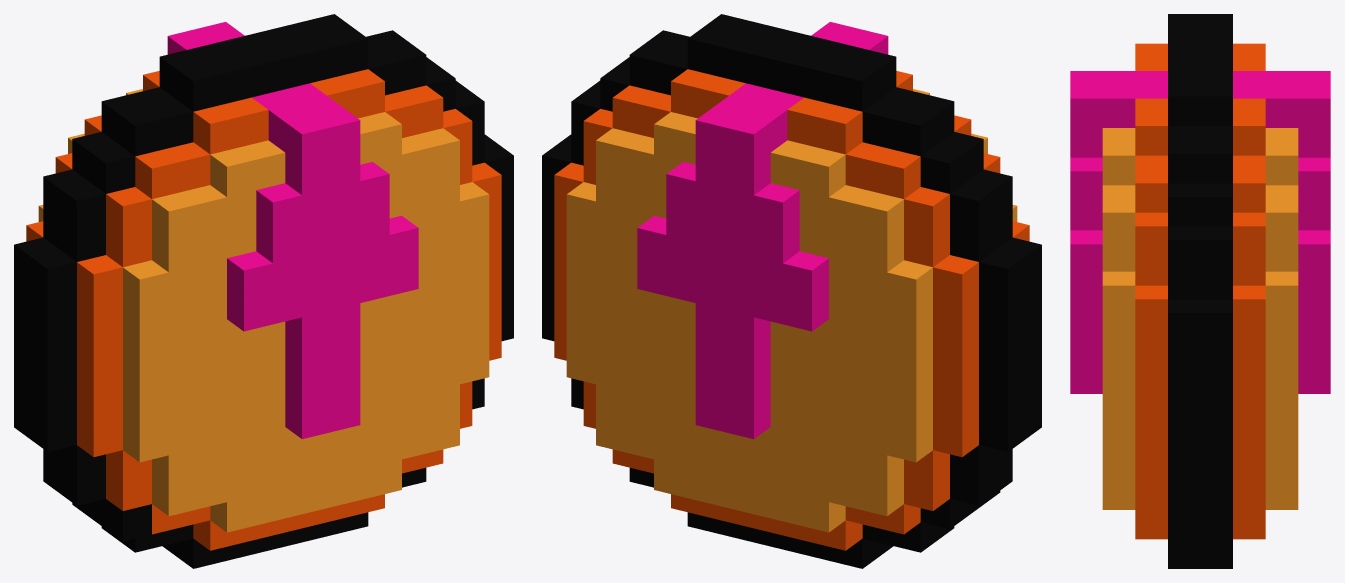
File: roulette.obj
3 renders of one model, left to right at view 1: azimuth 30°, elevation 25°; view 2: azimuth 150°, elevation 25°; view 3: azimuth 270°, elevation 25°, orthographic. The views are drawn at different scales.
Parts seen in each view (by area): view 1: Cube.435_Cube.18864; view 2: Cube.435_Cube.18864; view 3: Cube.435_Cube.18864.
Boxes of the visible parts, bbox=[...] form: Cube.435_Cube.18864: bbox=[14, 14, 513, 568]; Cube.435_Cube.18864: bbox=[542, 14, 1041, 568]; Cube.435_Cube.18864: bbox=[1070, 14, 1330, 568].
Size of the model in its own units: 1 by 1 by 0.5.
